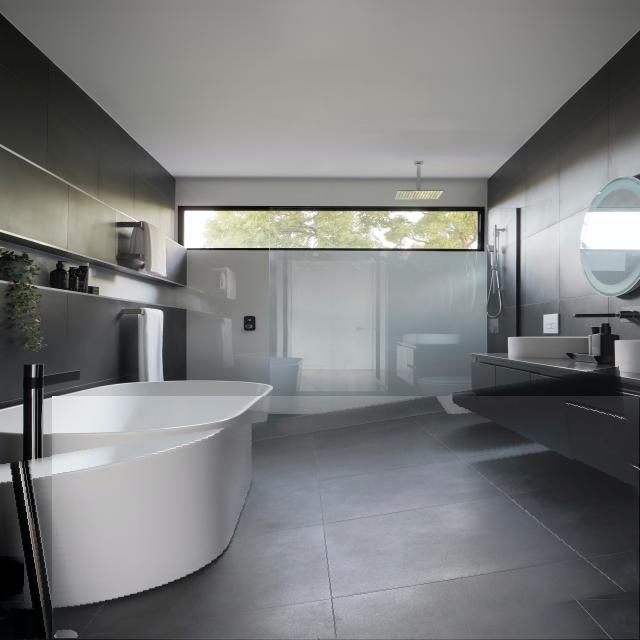floor: (53, 397, 639, 639), (0, 557, 24, 601)
